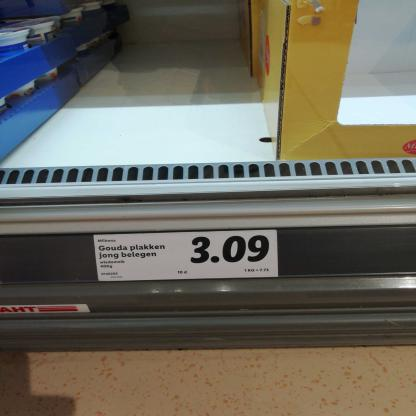prtg: (95, 231, 279, 282)
